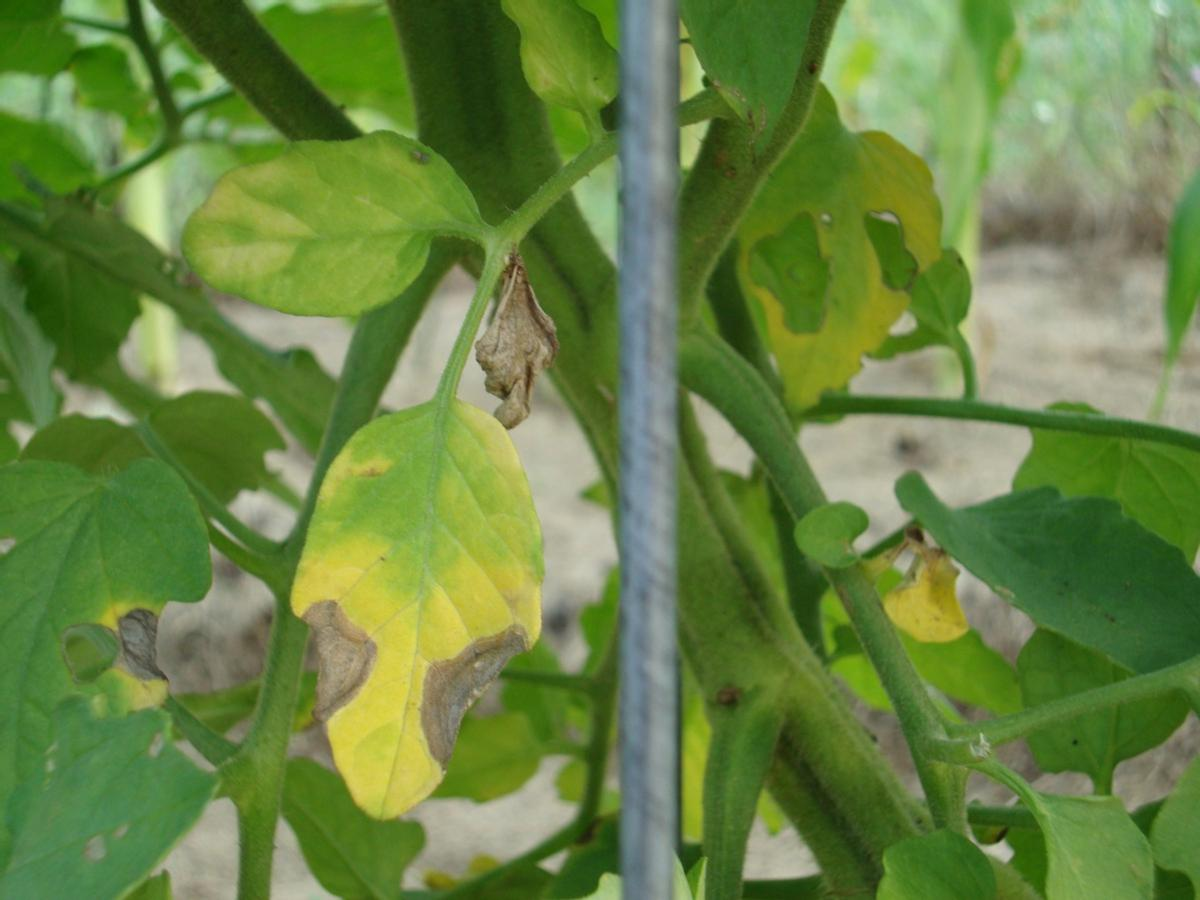Tomato Early blight leaf: (301, 390, 551, 818)
